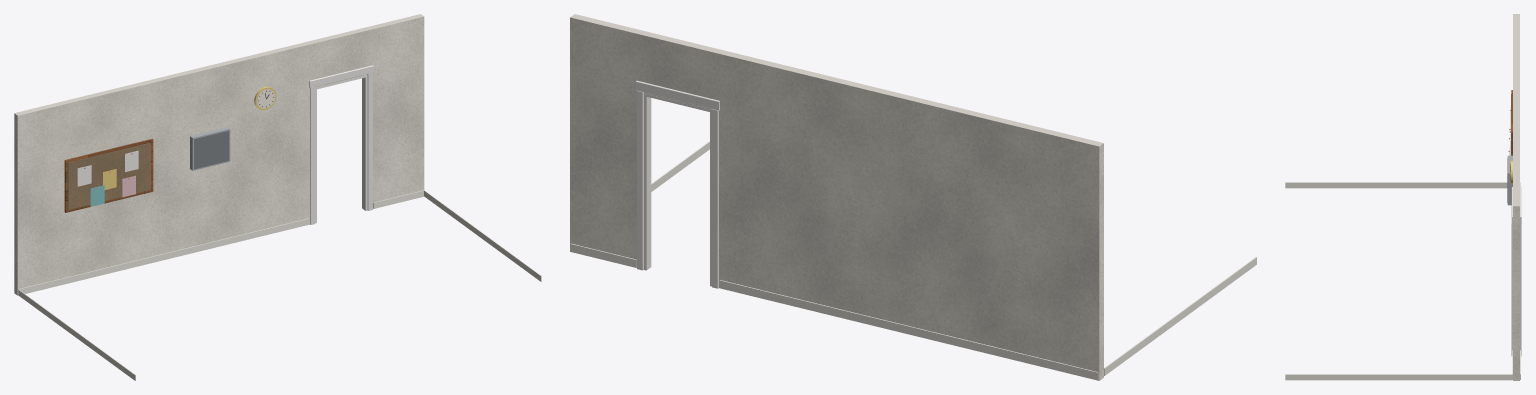
Rendered from office_room.glb.
The picture shows the model from 3 angles, left to right: view 1: azimuth 30°, elevation 25°; view 2: azimuth 150°, elevation 25°; view 3: azimuth 270°, elevation 25°; orthographic projection. The views are drawn at different scales.
Visible parts, largest first — view 1: office_room_plaster, office_room_trim, office_room_frame, office_room_dirt, office_room_steel_d, office_room_teak, office_room_paper; view 2: office_room_plaster, office_room_trim, office_room_frame; view 3: office_room_trim, office_room_plaster, office_room_frame, office_room_steel.
Part boxes in pixels (bbox=[...]): office_room_plaster: bbox=[14, 14, 424, 295]; office_room_trim: bbox=[18, 190, 541, 380]; office_room_frame: bbox=[309, 65, 373, 224]; office_room_dirt: bbox=[68, 142, 150, 209]; office_room_steel_d: bbox=[194, 130, 229, 169]; office_room_teak: bbox=[64, 138, 153, 212]; office_room_paper: bbox=[77, 150, 138, 186]; office_room_plaster: bbox=[570, 14, 1103, 380]; office_room_trim: bbox=[570, 141, 1256, 379]; office_room_frame: bbox=[636, 80, 719, 288]; office_room_trim: bbox=[1285, 182, 1520, 380]; office_room_plaster: bbox=[1513, 14, 1519, 380]; office_room_frame: bbox=[1511, 187, 1521, 356]; office_room_steel: bbox=[1507, 155, 1512, 205].
Size of the model in its own units: 6.5 by 2.75 by 3.37.
14 materials, 3 textured.
